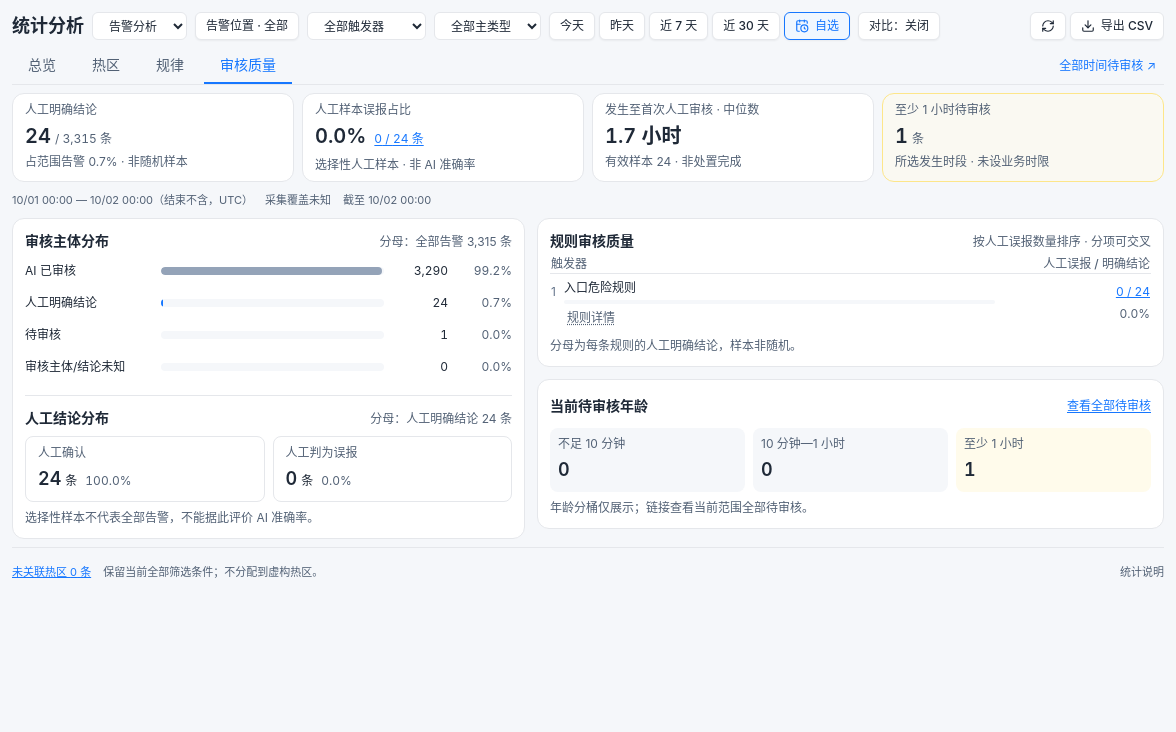
reports an actionable copy failure when modern API is unavailable and legacy copy returns false
Click the heading "规则详情" at coordinates (591, 318), box [567,306,615,330]
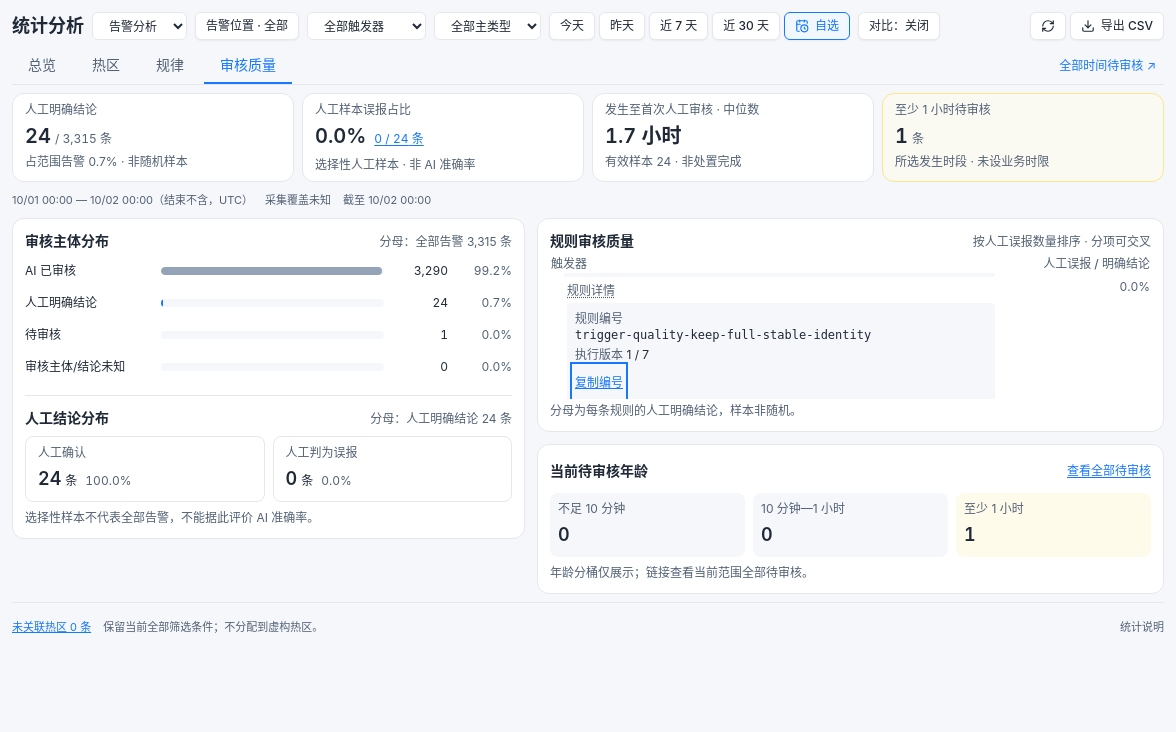
Click the button with aria-label "复制规则编号" at coordinates (599, 383), box [575,367,623,399]
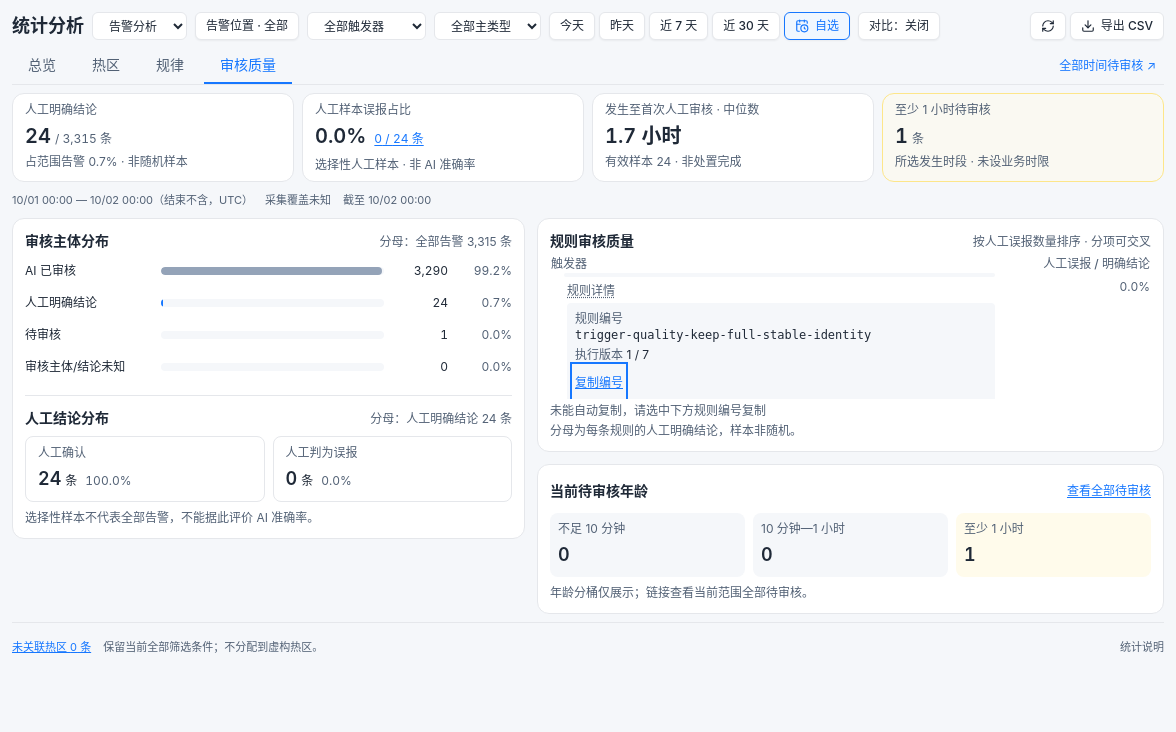
Now the text "trigger-quality-keep-full-stable-identity" is shown, box [575,328,871,342]
Now the message shows "未能自动复制", box [550,403,766,418]
Now the message shows "选中下方规则编号复制", box [550,403,766,418]
